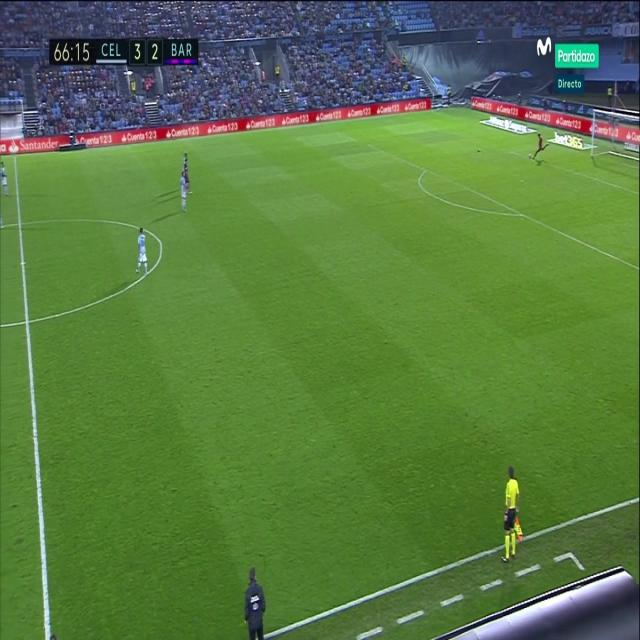Ball: (527, 150, 533, 160)
Goalkeeper: (532, 130, 552, 161)
Player: (134, 225, 150, 278), (182, 151, 194, 194), (0, 158, 11, 198), (178, 171, 186, 218)
Referee: (500, 464, 521, 566)
